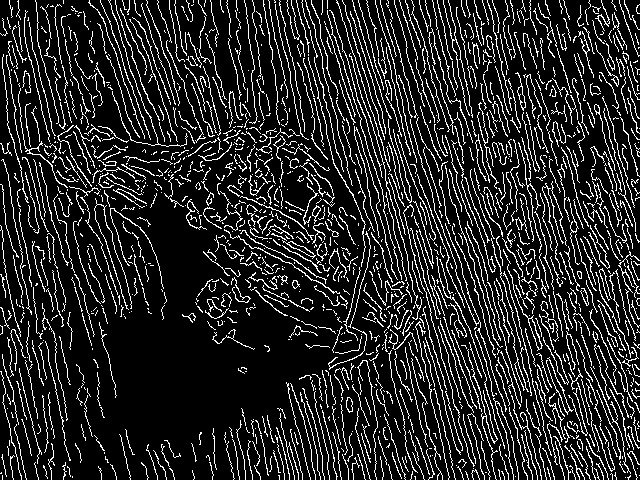red_onion: (25, 113, 426, 379)
